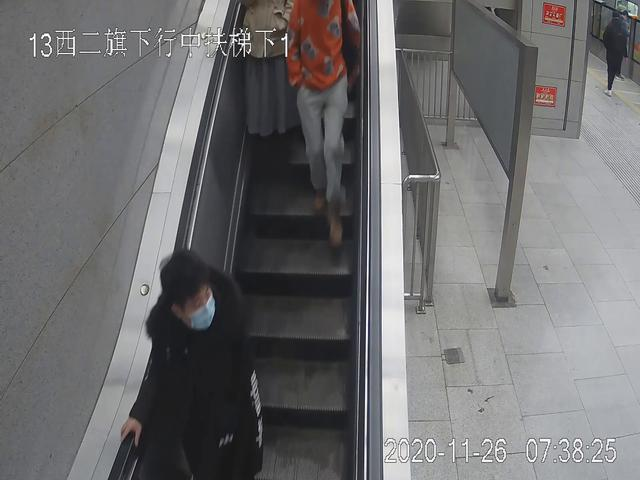person: (119, 253, 265, 480), (285, 1, 357, 244), (237, 1, 297, 167), (602, 9, 626, 97)
